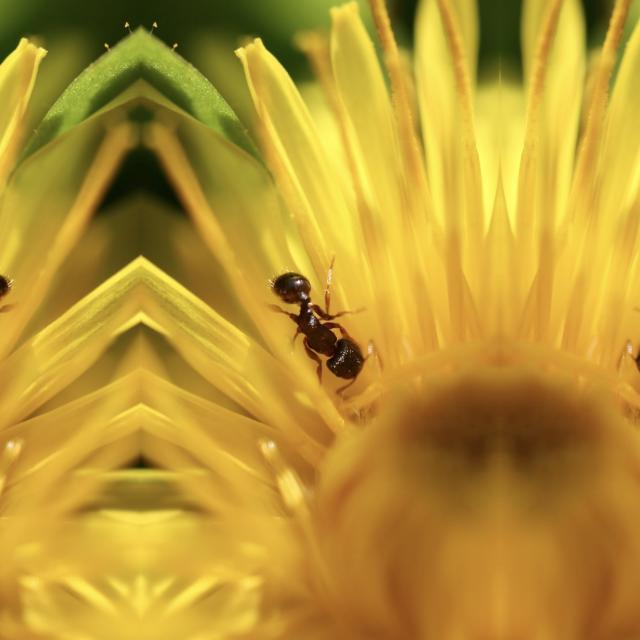Tetramorium: (261, 246, 401, 394), (598, 244, 640, 394)
